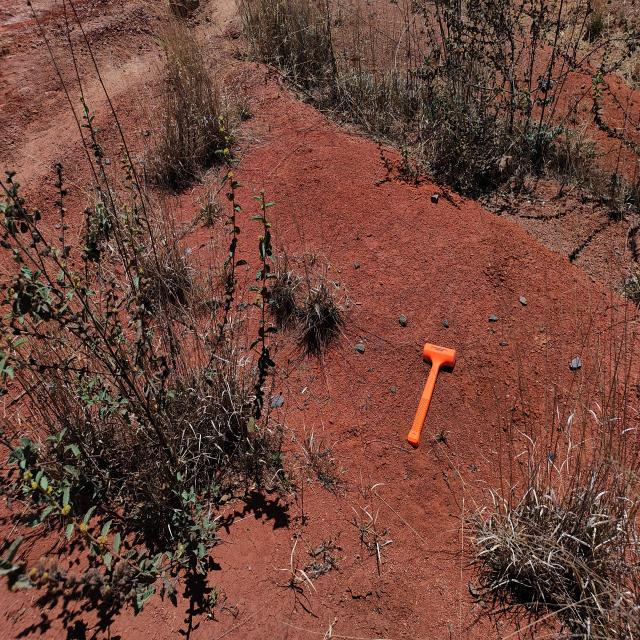Orange_hammer: (406, 342, 456, 448)
